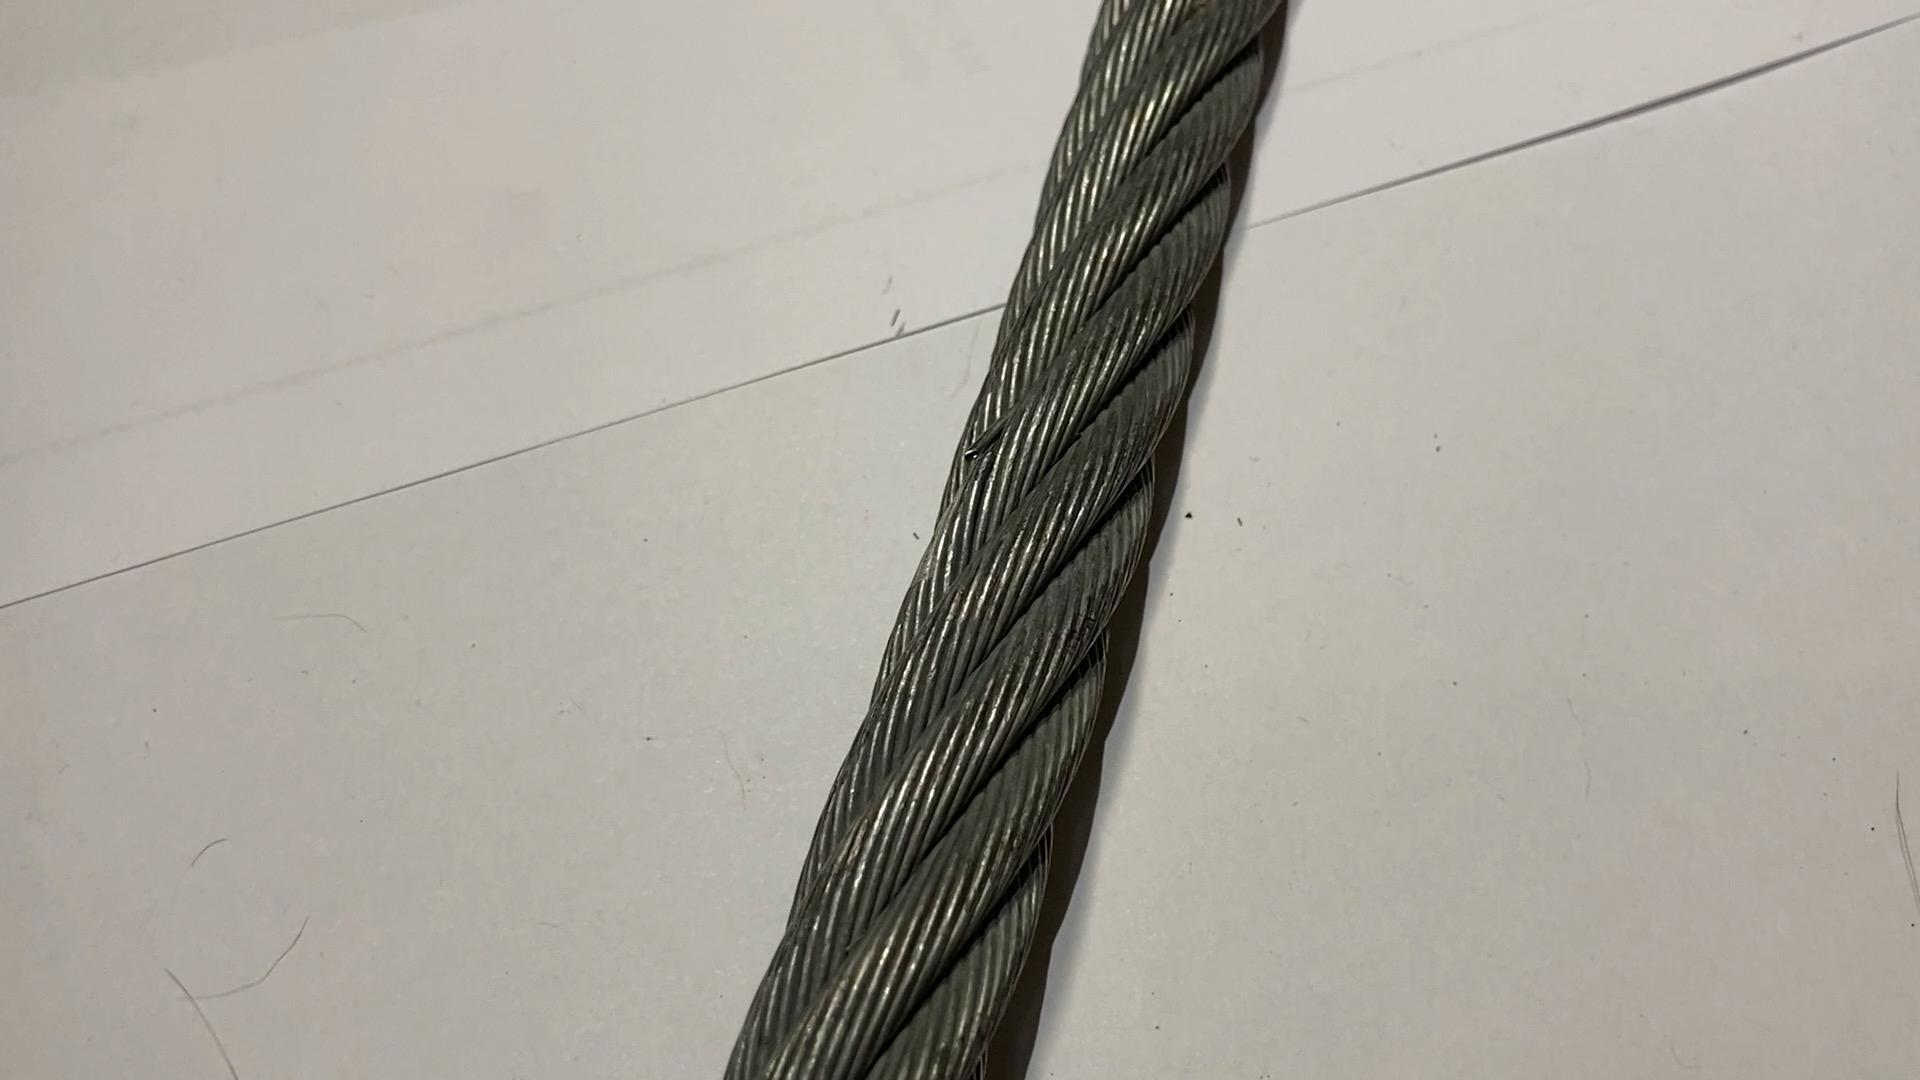break: (955, 401, 1018, 469)
